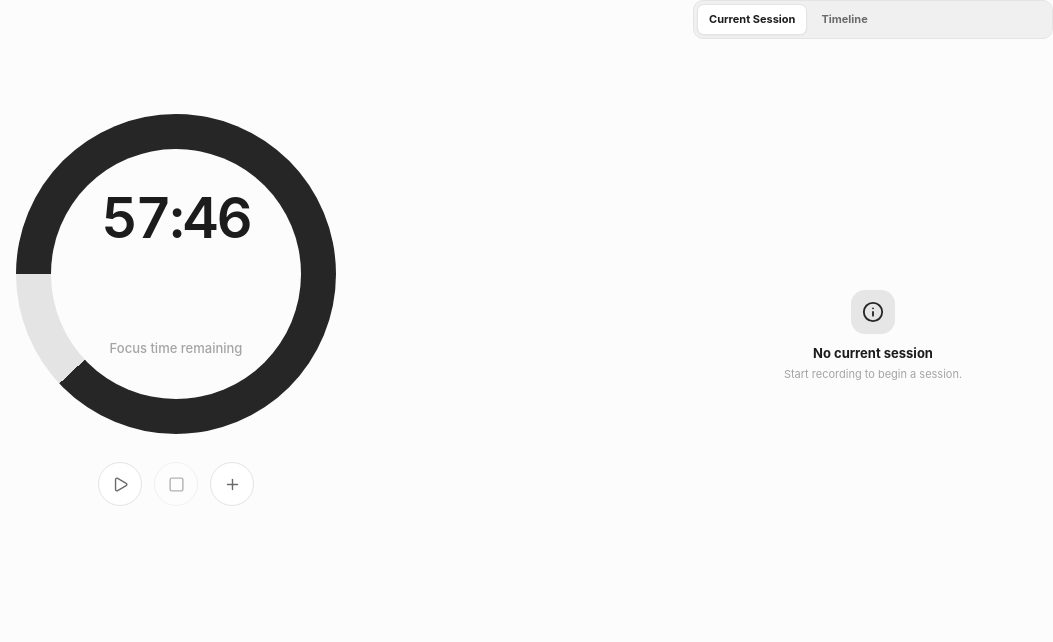
Test: TimerScreen › shows a timeline block title on the Timeline tab
What coordinates should you click on to do the following:
click the tab "Timeline"
I would click on:
 (845, 20)
Its box is x1=810 y1=4 x2=879 y2=35.
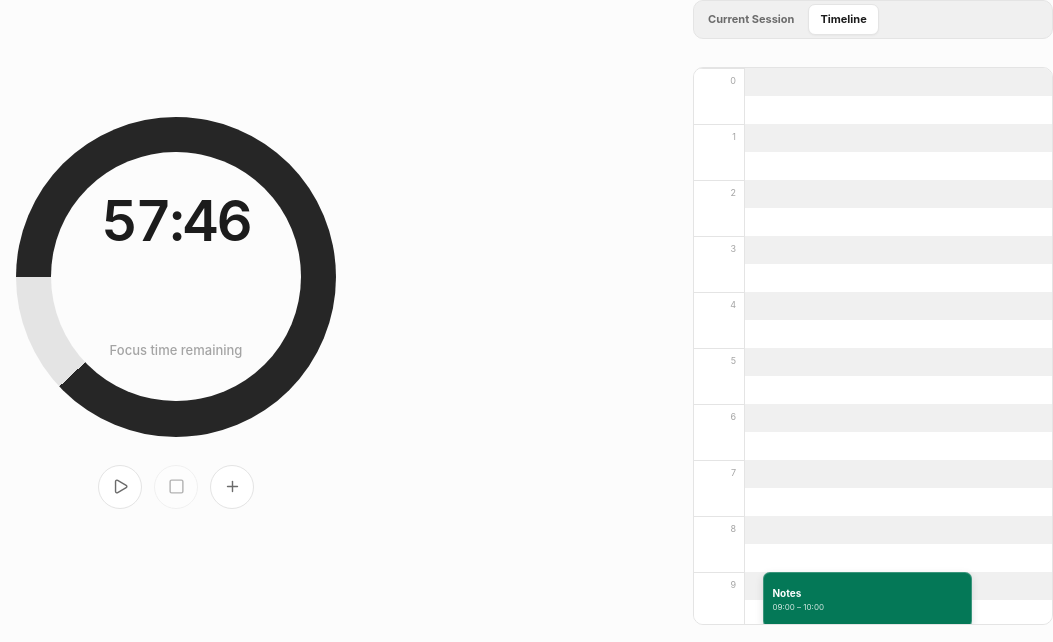
Expected: the text "Notes" is shown, x1=772 y1=587 x2=801 y2=599
